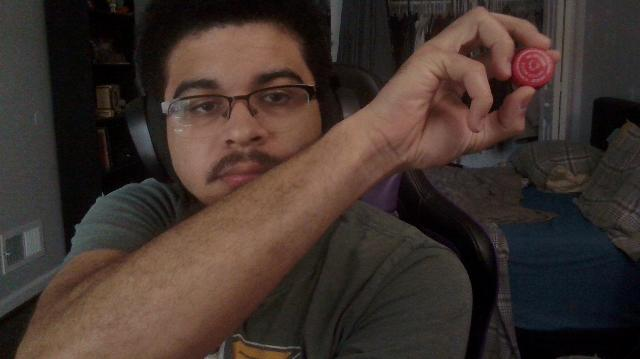cap: (512, 48, 554, 88)
